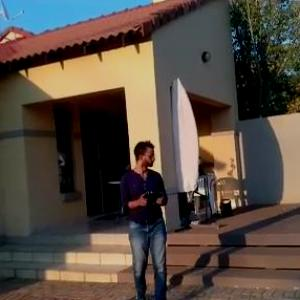follow: (114, 135, 174, 299)
